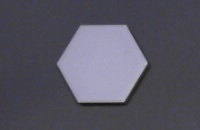grey_tile: (56, 24, 148, 102)
